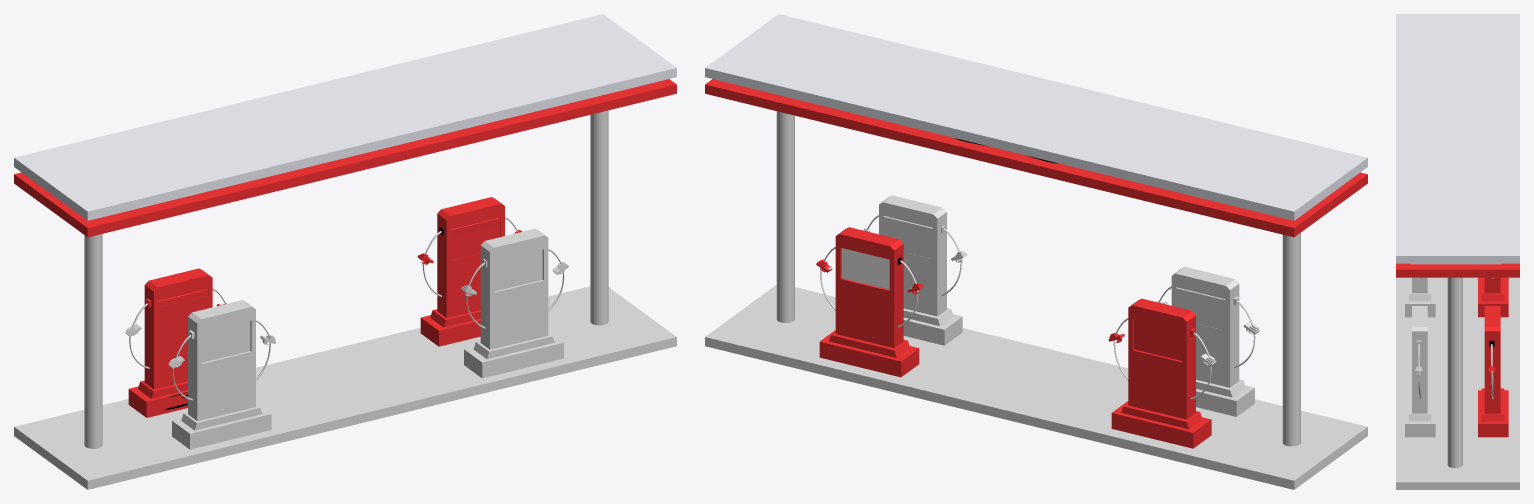
The model's file is gasPump.fbx.
3 renders of one model, left to right at view 1: azimuth 30°, elevation 25°; view 2: azimuth 150°, elevation 25°; view 3: azimuth 270°, elevation 25°, orthographic. The views are drawn at different scales.
Visible parts, largest first — view 1: Cube.013, NurbsPath.006; view 2: Cube.013, NurbsPath.006; view 3: Cube.013, NurbsPath.006.
Boxes of the visible parts, <box> form: Cube.013: <box>14,14,676,489</box>; NurbsPath.006: <box>129,216,564,400</box>; Cube.013: <box>705,14,1367,489</box>; NurbsPath.006: <box>820,215,1255,399</box>; Cube.013: <box>1396,14,1519,489</box>; NurbsPath.006: <box>1418,277,1493,399</box>.
Bounding box in the file's own units: 3726 × 1682 × 807.
Materials: 4 (1 with a texture image).
